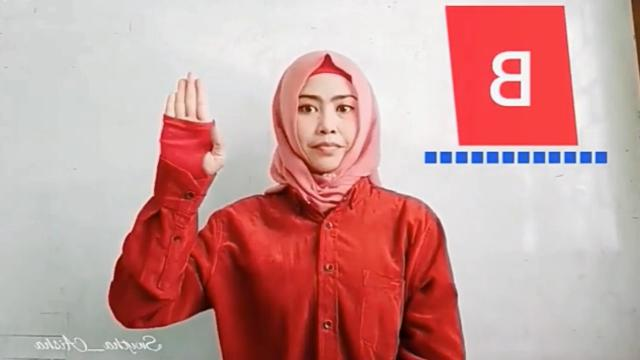B: (158, 73, 226, 181)
